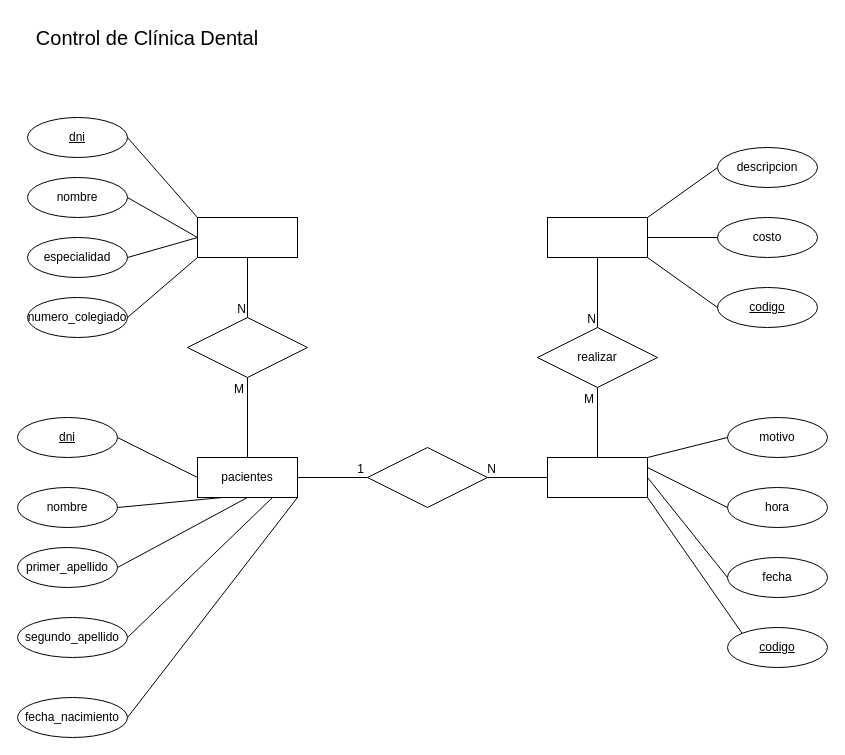
The diagram is 845 pixels wide and 755 high, and some of its shapes have lost their labels. The centre of each missing label's shape, as x and y in pixels:
"atender" goes at point (247, 347).
"citas" goes at point (597, 477).
"dentistas" goes at point (247, 237).
"generar" goes at point (427, 477).
"tratamientos" goes at point (597, 237).
